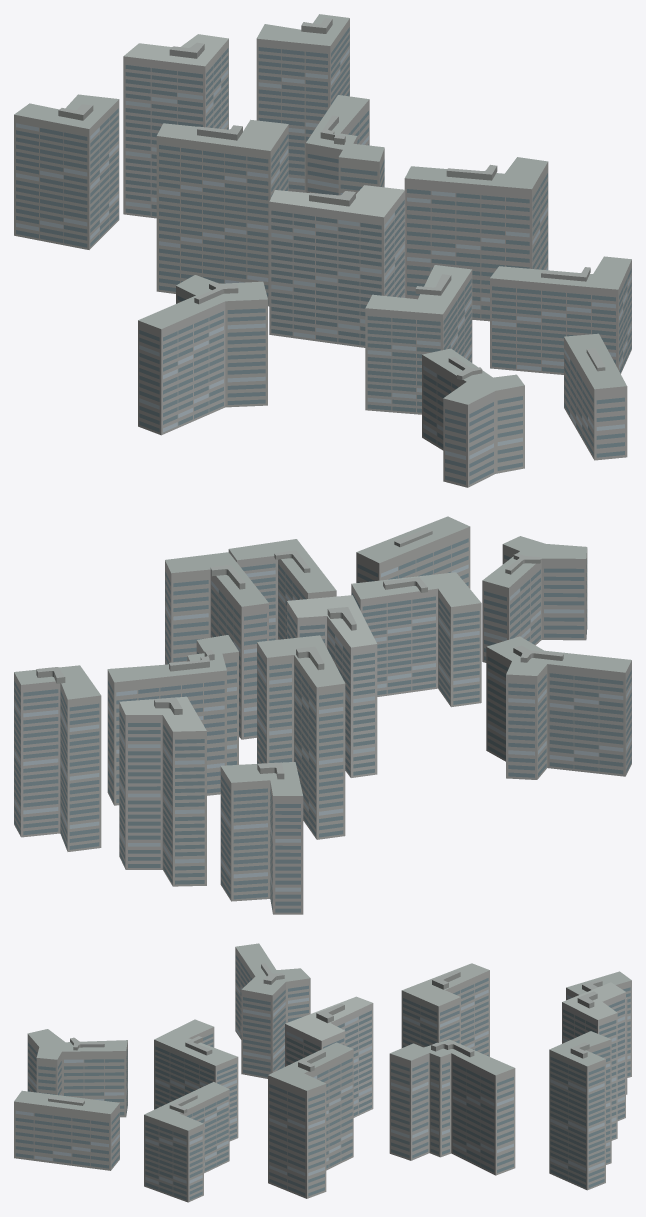
File: apt-a10024313.glb
The picture shows the model from 3 angles, top to bottom: view 1: azimuth 30°, elevation 25°; view 2: azimuth 150°, elevation 25°; view 3: azimuth 270°, elevation 25°; orthographic projection. The views are drawn at different scales.
Parts seen in each view (by area): view 1: apt-a10024313; view 2: apt-a10024313; view 3: apt-a10024313.
Part boxes in pixels (x1,y1,x2,y2): apt-a10024313: (14, 14, 631, 487); apt-a10024313: (14, 516, 631, 914); apt-a10024313: (14, 943, 631, 1202).
Bounding box in the file's own units: 189 × 66 × 283.
